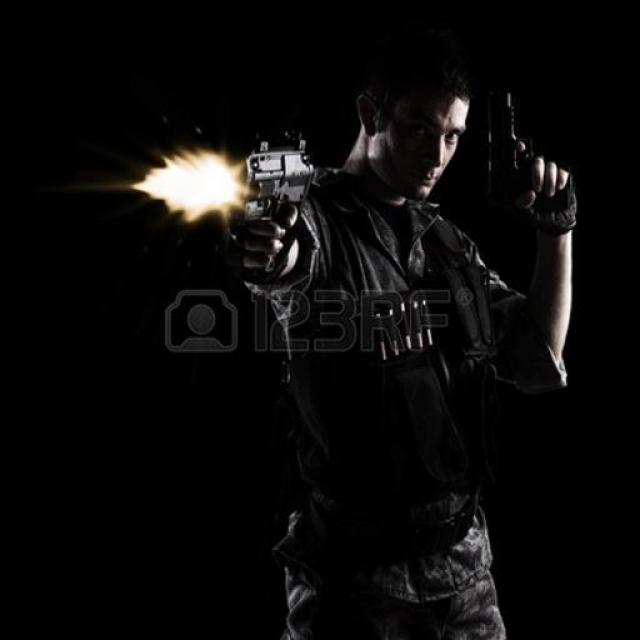pistol: (467, 65, 576, 232), (208, 126, 313, 288)
